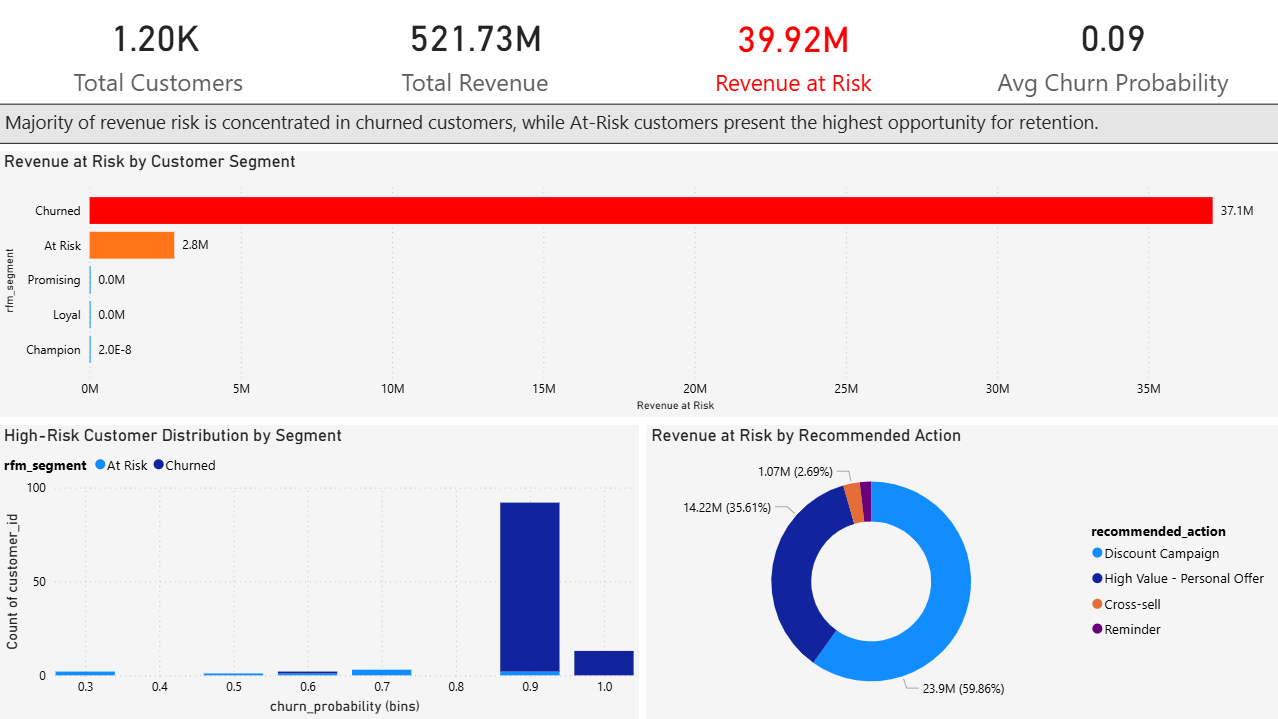

This screenshot's page, from the dashboard's own definition file:
{"tool":"powerbi","page":{"name":"Executive Overview","canvas":[1280,720],"ordinal":0},"visuals":[{"type":"card","fields":{"Values":["CountNonNull(customer_business_view.customer_id)"]},"box":[0,0,312.4,103.4],"z":0},{"type":"card","fields":{"Values":["customer_business_view.Total Revenue"]},"box":[312.4,0,327.4,103.4],"z":1000},{"type":"card","fields":{"Values":["Sum(customer_business_view.revenue_at_risk)"]},"box":[639.8,0,309,103.4],"z":2000},{"type":"card","fields":{"Values":["Avg(customer_business_view.churn_probability)"]},"box":[948.8,0,330.8,103.4],"z":3000},{"type":"barChart","title":"Revenue at Risk by Customer Segment","fields":{"Category":["customer_business_view.rfm_segment"],"Y":["Sum(customer_business_view.revenue_at_risk)"]},"box":[0,151.6,1279.6,265.3],"z":4000},{"type":"columnChart","title":"High-Risk Customer Distribution by Segment","fields":{"Category":["customer_business_view.churn_probability (bins)"],"Y":["CountNonNull(customer_business_view.customer_id)"],"Series":["customer_business_view.rfm_segment"]},"box":[0,425,639.8,294.1],"z":5000},{"type":"donutChart","title":"Revenue at Risk by Recommended Action","fields":{"Category":["customer_business_view.recommended_action"],"Y":["Sum(customer_business_view.revenue_at_risk)"]},"box":[647.9,425,631.8,294.1],"z":6000},{"type":"textbox","box":[0,103.4,1279.6,40.2],"z":7000}]}

Visuals, with their boxes in screenshot pixels (x1, y1, x2, y2), scaled from the page's 1280x720 canvas onto the 1278x719 screenshot:
card - CountNonNull(customer_business_view.customer_id): locate(0, 0, 312, 103)
card - customer_business_view.Total Revenue: locate(312, 0, 639, 103)
card - Sum(customer_business_view.revenue_at_risk): locate(639, 0, 947, 103)
card - Avg(customer_business_view.churn_probability): locate(947, 0, 1277, 103)
"Revenue at Risk by Customer Segment" barChart: locate(0, 151, 1277, 416)
"High-Risk Customer Distribution by Segment" columnChart: locate(0, 424, 639, 718)
"Revenue at Risk by Recommended Action" donutChart: locate(647, 424, 1277, 718)
textbox: locate(0, 103, 1277, 143)
